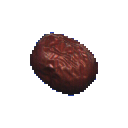gd: (20, 16, 117, 103)
